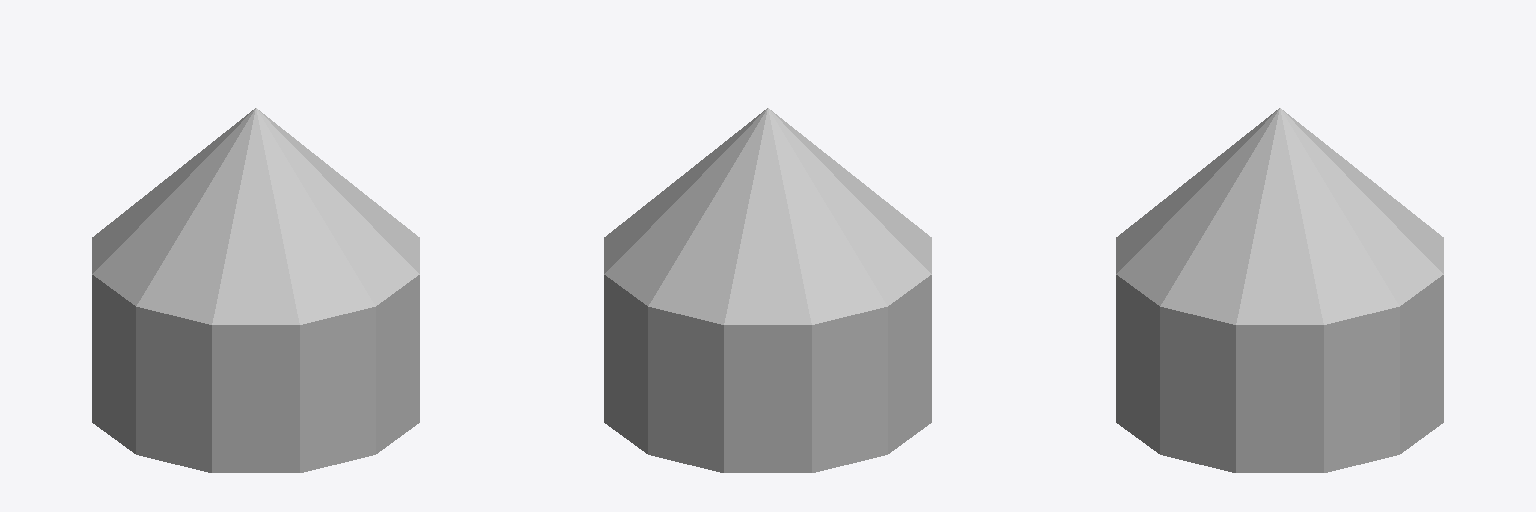
The model's file is simple-shapes.obj.
3 renders of one model, left to right at view 1: azimuth 30°, elevation 25°; view 2: azimuth 150°, elevation 25°; view 3: azimuth 270°, elevation 25°, orthographic.
Parts seen in each view (by area): view 1: tube, cone; view 2: tube, cone; view 3: tube, cone.
Boxes of the visible parts, x1,y1,x2,y2 form: tube: [92, 275, 419, 472]; cone: [92, 108, 419, 324]; tube: [604, 275, 931, 472]; cone: [604, 108, 931, 324]; tube: [1116, 275, 1443, 472]; cone: [1116, 108, 1443, 324].
Size of the model in its own units: 1 by 1 by 1.